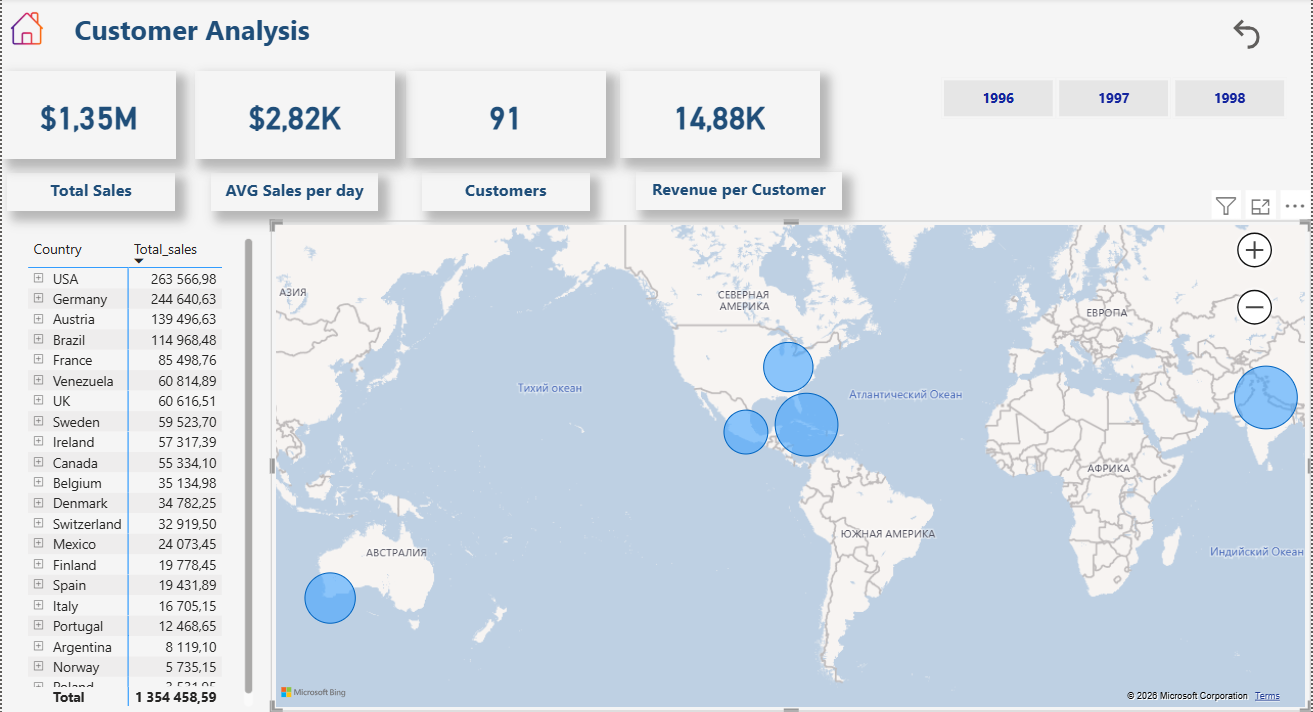

The page's visual inventory and layout, read from the dashboard file:
{"tool":"powerbi","page":{"name":"Customers","canvas":[1280,720],"ordinal":2},"visuals":[{"type":"cardVisual","fields":{"Data":["Measure.Total_sales"]},"box":[0,71.4,170.2,86.4],"z":0},{"type":"slicer","fields":{"Values":["orders.YEAR_Order"]},"box":[892.7,70.9,387.6,53.8],"z":1000},{"type":"cardVisual","fields":{"Data":["Measure.AverageRevenuePerDay"]},"box":[188,71.4,196.2,86.4],"z":3000},{"type":"textbox","box":[66.2,7.7,302,46.2],"z":4000},{"type":"textbox","box":[5.5,171.5,164.7,37],"z":7000},{"type":"textbox","box":[204.3,171,164,37.5],"z":8000},{"type":"pivotTable","fields":{"Rows":["customers.country","customers.company_name"],"Values":["Measure.Total_sales"]},"box":[20.8,229.9,229.9,468.3],"z":10000},{"type":"map","fields":{"Category":["customers.country"],"Size":["Measure.Total_sales"]},"box":[262.9,217.1,1017.4,481.2],"z":10002},{"type":"cardVisual","fields":{"Data":["Measure.total_customers"]},"box":[395,70.9,195.7,85.6],"z":10003},{"type":"textbox","box":[410.9,171.2,163.9,37.9],"z":10004},{"type":"cardVisual","fields":{"Data":["Measure.AveragePerCustomer"]},"box":[604.1,70.9,195.7,85.6],"z":10005},{"type":"textbox","box":[620,170,201.8,37.9],"z":10006},{"type":"actionButton","box":[1198.7,15.4,38.5,38.5],"z":10007},{"type":"image","box":[0,6.2,49.3,47.8],"z":10008}]}

Visuals, with their boxes on the page's 1280x720 design canvas (x1, y1, x2, y2). These are canvas units, not pixel positions in the 1313x712 screenshot, which may show the page scaled, cropped or inside an application window:
cardVisual - Measure.Total_sales: <bbox>0, 71, 170, 158</bbox>
slicer - orders.YEAR_Order: <bbox>893, 71, 1280, 125</bbox>
cardVisual - Measure.AverageRevenuePerDay: <bbox>188, 71, 384, 158</bbox>
textbox: <bbox>66, 8, 368, 54</bbox>
textbox: <bbox>6, 172, 170, 208</bbox>
textbox: <bbox>204, 171, 368, 208</bbox>
pivotTable - customers.country x customers.company_name: <bbox>21, 230, 251, 698</bbox>
map - customers.country x Measure.Total_sales: <bbox>263, 217, 1280, 698</bbox>
cardVisual - Measure.total_customers: <bbox>395, 71, 591, 156</bbox>
textbox: <bbox>411, 171, 575, 209</bbox>
cardVisual - Measure.AveragePerCustomer: <bbox>604, 71, 800, 156</bbox>
textbox: <bbox>620, 170, 822, 208</bbox>
actionButton: <bbox>1199, 15, 1237, 54</bbox>
image: <bbox>0, 6, 49, 54</bbox>
